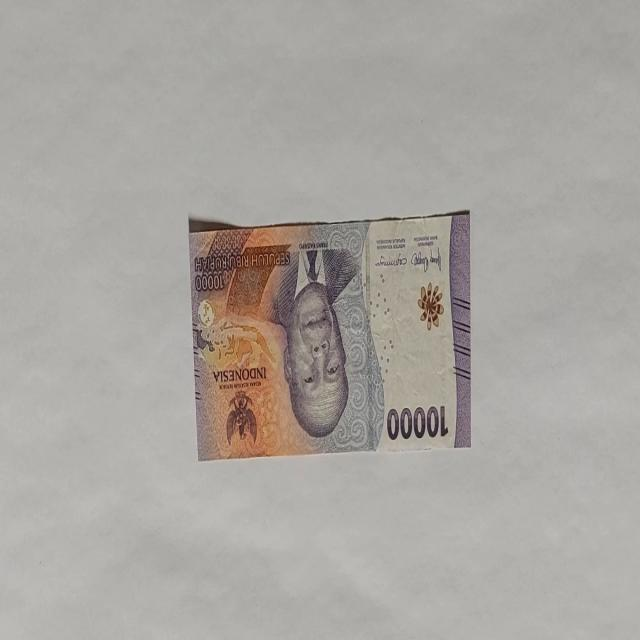sepuluh ribu rupiah: (188, 208, 471, 461), (272, 244, 360, 441)
